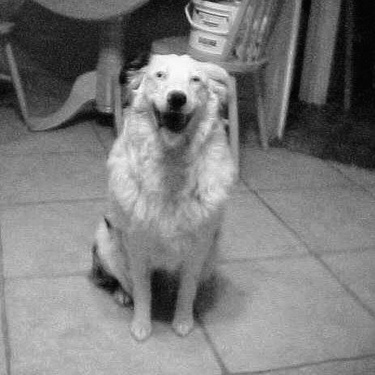dog: (84, 49, 240, 340)
